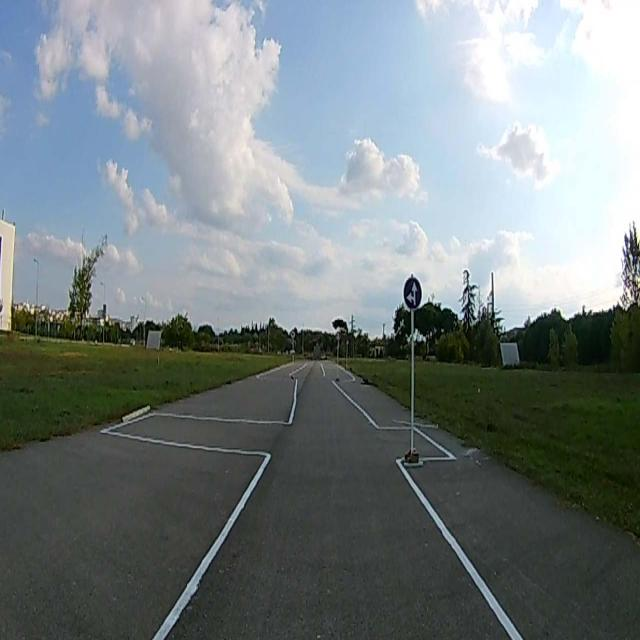ilerisol: (405, 278, 421, 310)
